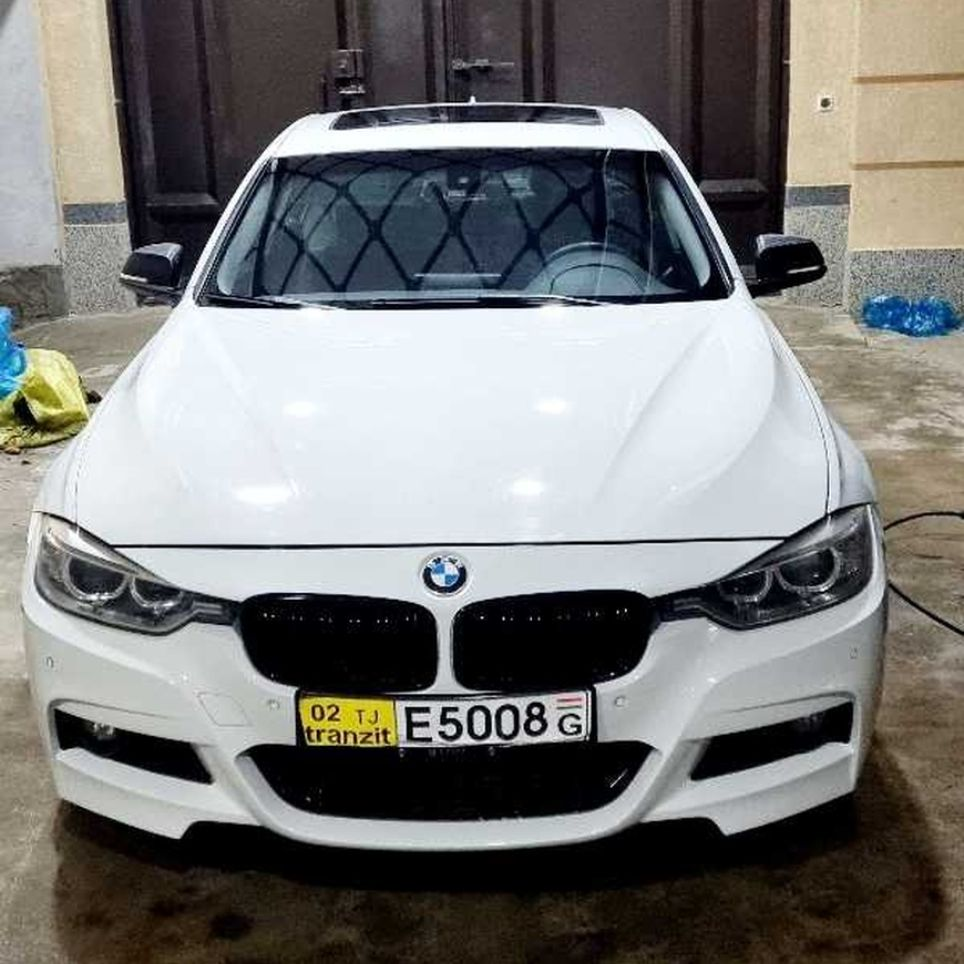license plate: (295, 692, 595, 751)
truck: (29, 84, 897, 873)
